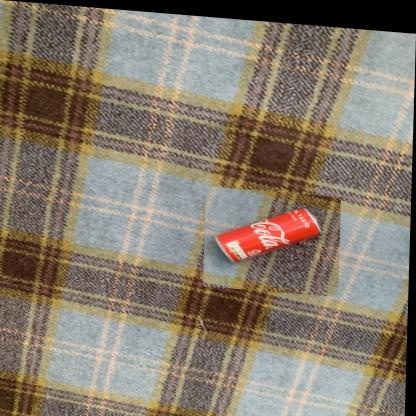trash: (215, 208, 319, 261)
